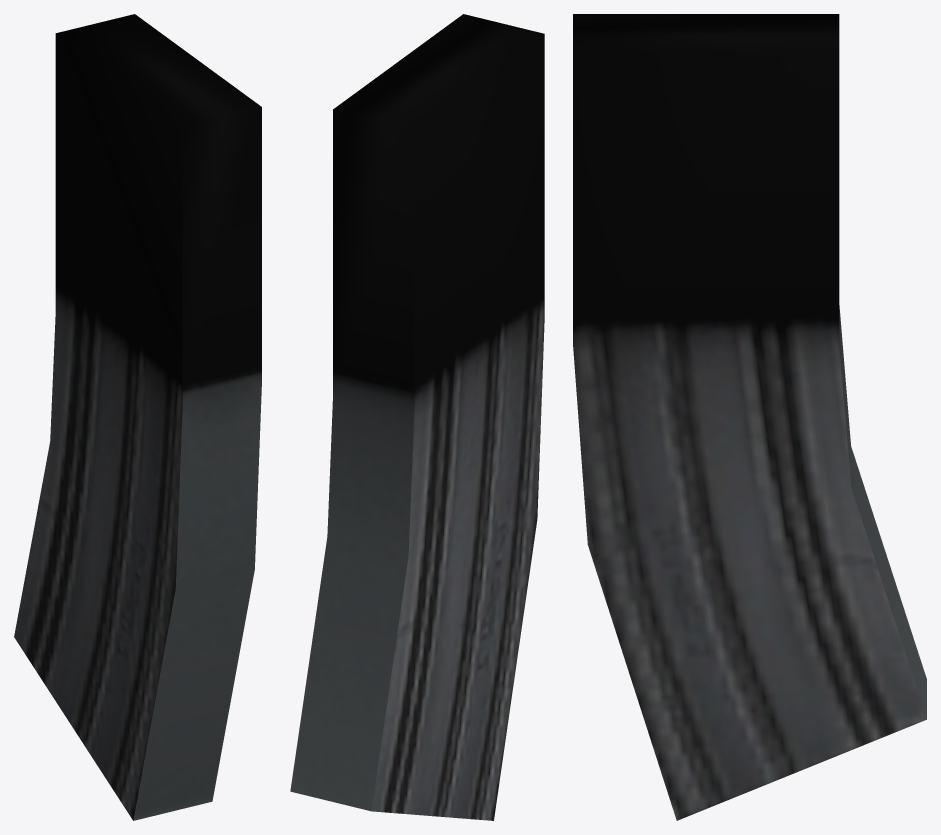
Rendered from STANAG.fbx.
3 renders of one model, left to right at view 1: azimuth 30°, elevation 25°; view 2: azimuth 150°, elevation 25°; view 3: azimuth 270°, elevation 25°, orthographic. The views are drawn at different scales.
Visible parts, largest first — view 1: STANAG_Mag; view 2: STANAG_Mag; view 3: STANAG_Mag.
Boxes of the visible parts, bbox=[...] form: STANAG_Mag: bbox=[14, 14, 261, 820]; STANAG_Mag: bbox=[290, 14, 544, 820]; STANAG_Mag: bbox=[573, 14, 926, 820].
Size of the model in its own units: 0.0136 by 0.0504 by 0.1203.
